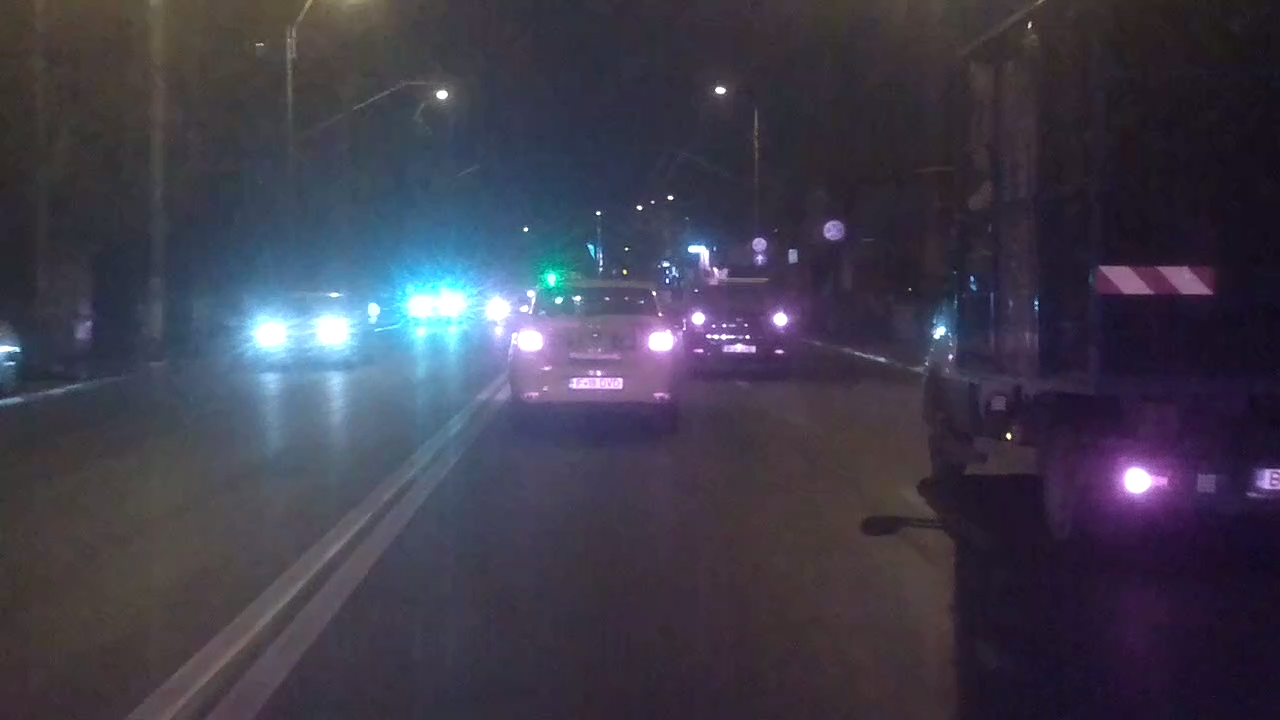license-plate: (567, 374, 626, 392)
